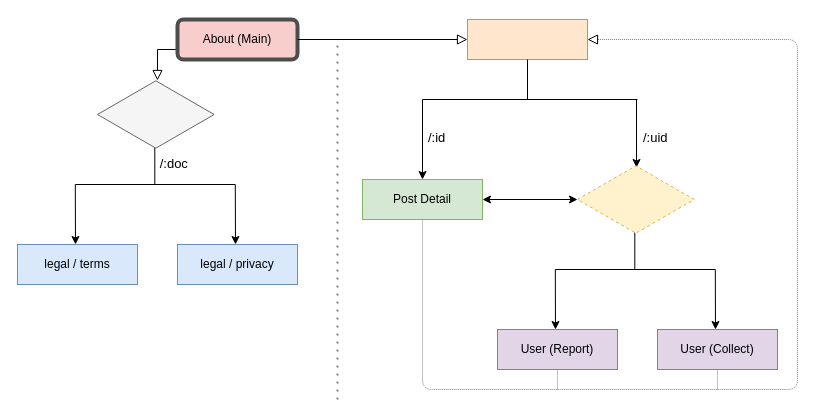
This 816x418 diagram has some shape labels left out. Here are the shapes that lost their labels. From the top down, the centre of each, then its label:
At point 527,39: "Post".
At point 155,114: "legal".
At point 635,199: "User".
